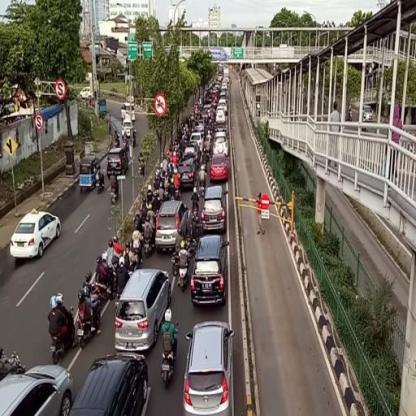car: (116, 270, 172, 347), (0, 361, 74, 415), (189, 320, 230, 414), (90, 353, 149, 416), (191, 233, 230, 306), (12, 208, 64, 262), (154, 202, 192, 251), (201, 188, 230, 228), (106, 148, 130, 175), (213, 151, 231, 182)
motorbike: (47, 315, 77, 365), (79, 313, 108, 346), (160, 338, 179, 388), (174, 254, 189, 288), (108, 184, 121, 208), (94, 174, 104, 196)
